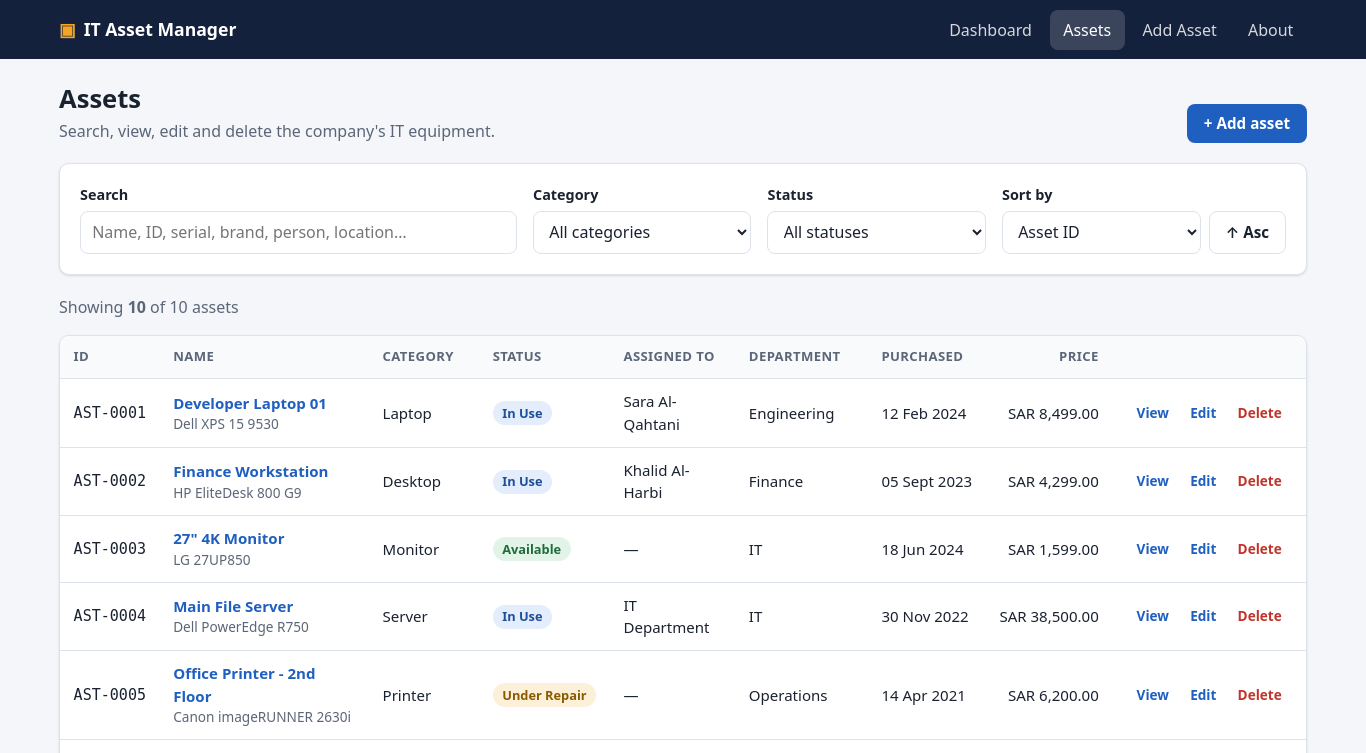
Scenario: search assets › says when nothing matches and can clear the filters
Type "zzzz" into the search field labelled "Search".
click(298, 232); type("zzzz")  # box top-left (80, 211), bottom-right (517, 254)
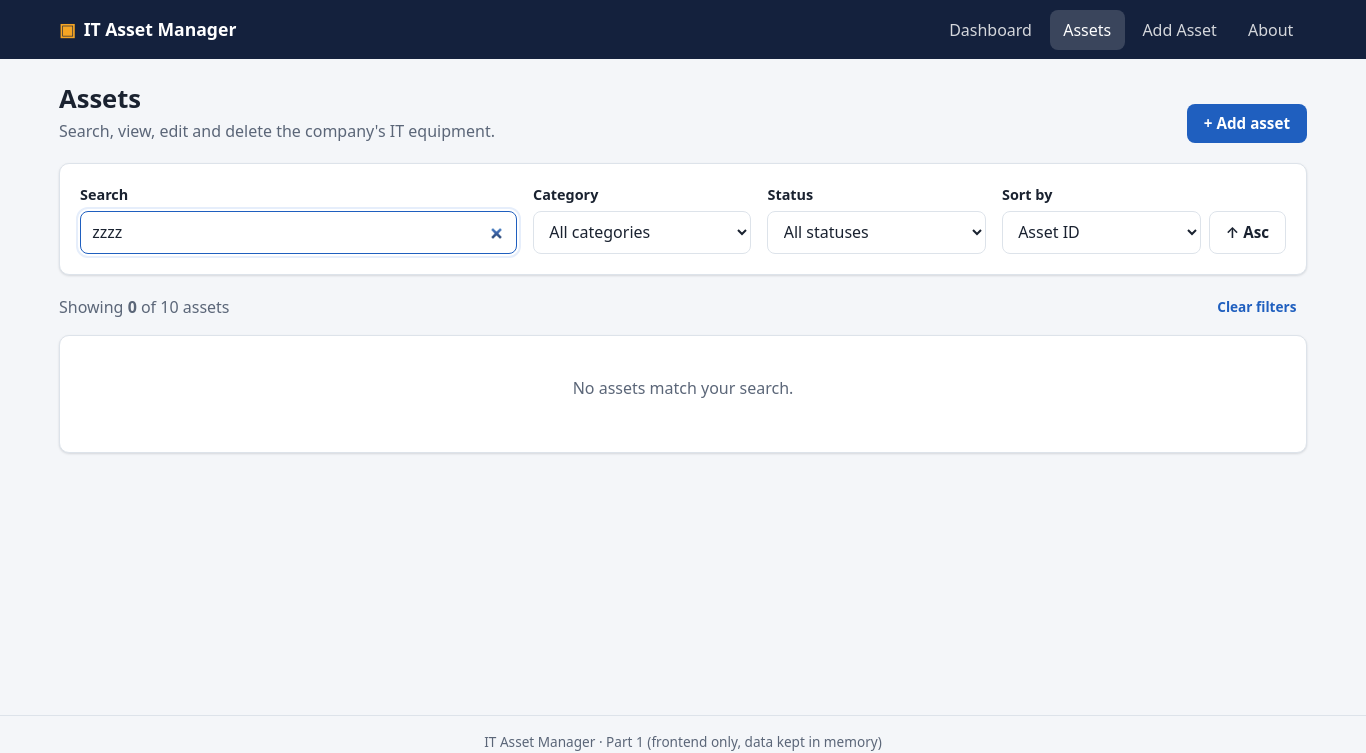
Expected: the text "No assets match your search." is shown, top-left (573, 377), bottom-right (793, 399)
Click the button "Clear filters".
click(1257, 307)  # box top-left (1207, 293), bottom-right (1307, 321)
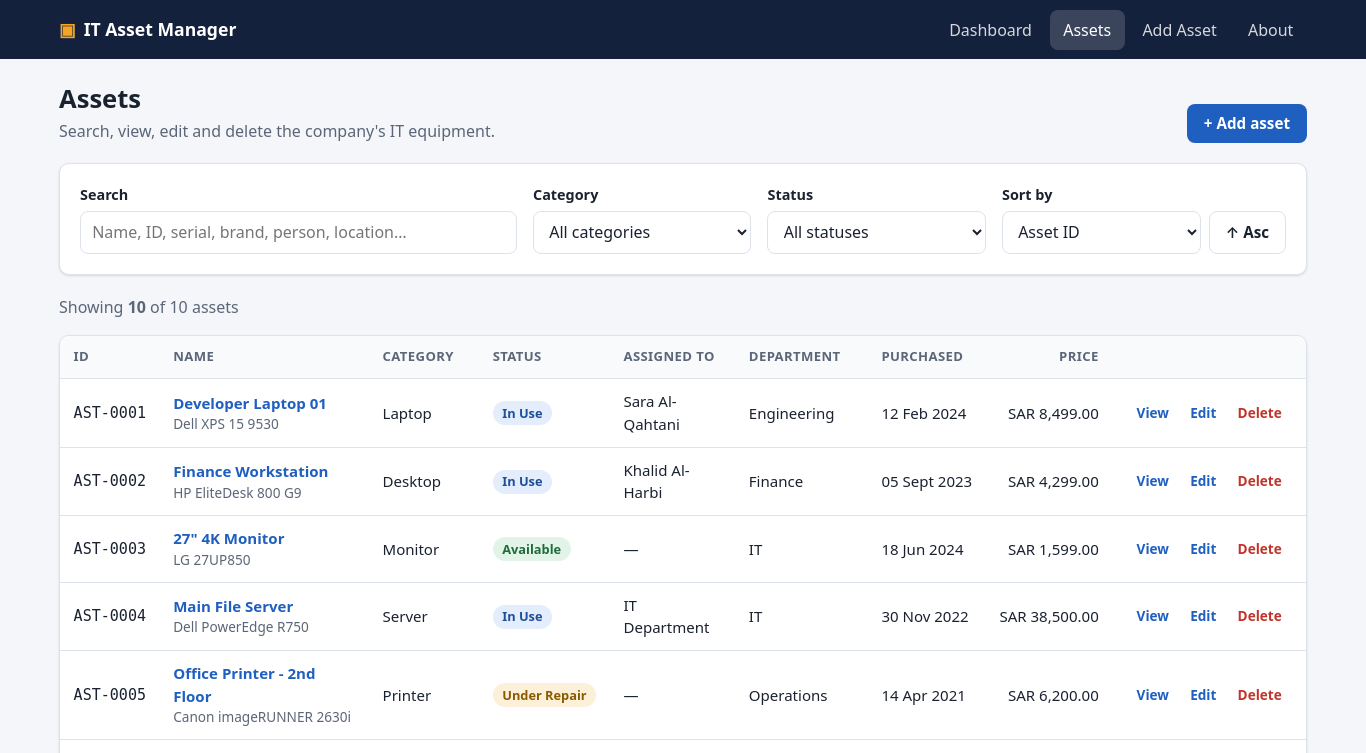
Expected: the search field labelled "Search" is empty, top-left (80, 211), bottom-right (517, 254)
